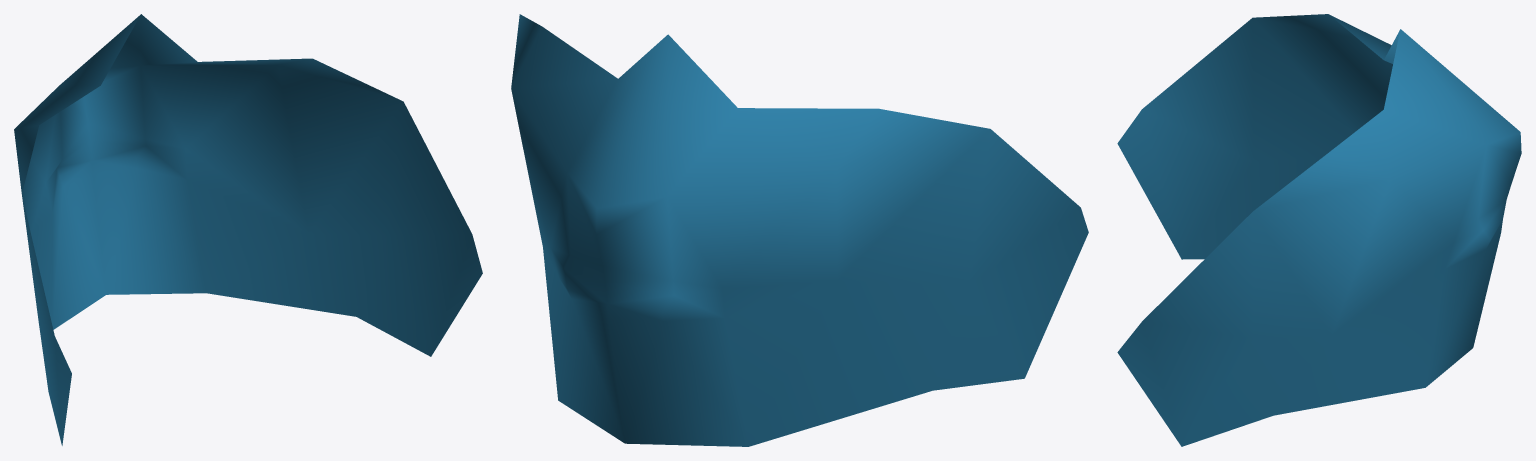
Rendered from StarMask_Ground.fbx.
3 views of the same model, side by side, from view 1: azimuth 30°, elevation 25°; view 2: azimuth 150°, elevation 25°; view 3: azimuth 270°, elevation 25° (orthographic). The views are drawn at different scales.
Visible parts, largest first — view 1: Headpiece.002; view 2: Headpiece.002; view 3: Headpiece.002.
Boxes of the visible parts, left/top/right/bottom form: Headpiece.002: left=14, top=14, right=482, bottom=445; Headpiece.002: left=511, top=14, right=1088, bottom=446; Headpiece.002: left=1117, top=14, right=1521, bottom=446.
Size of the model in its own units: 0.0849 by 0.0752 by 0.1055.
